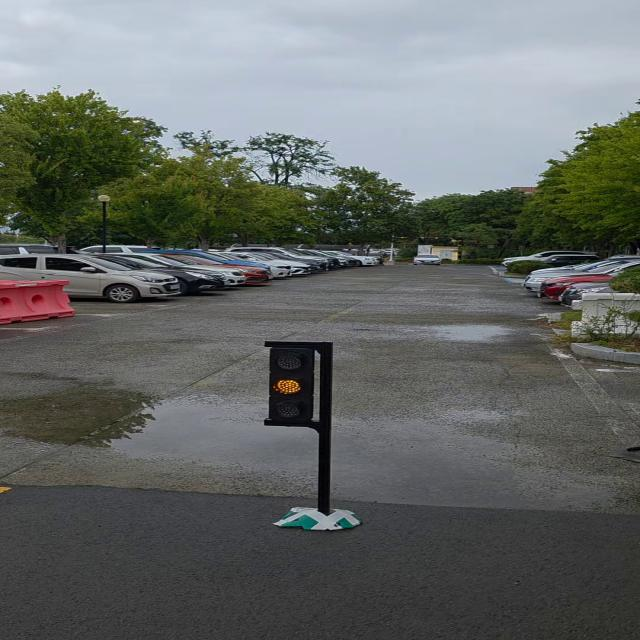yellow: (264, 346, 322, 423)
